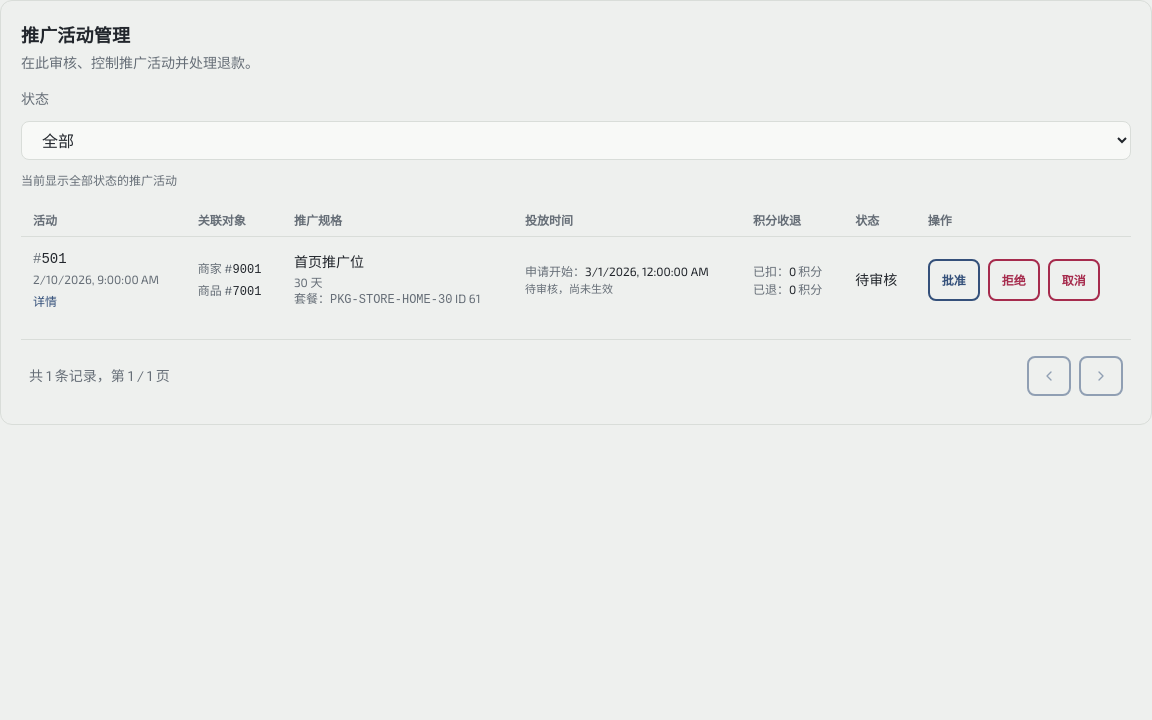
Test: AdminPromotionCampaignManager (action visibility + approve/reject) › approve resolving to payment_failed is a success: exact insufficient-balance copy, closes, refreshes, no alert
Check: the table named "推广活动列表" is shown, box [21,204,1131,323]
Click the button with aria-label "批准推广活动（活动 ID 501）" at (954, 280), box [928,259,980,301]
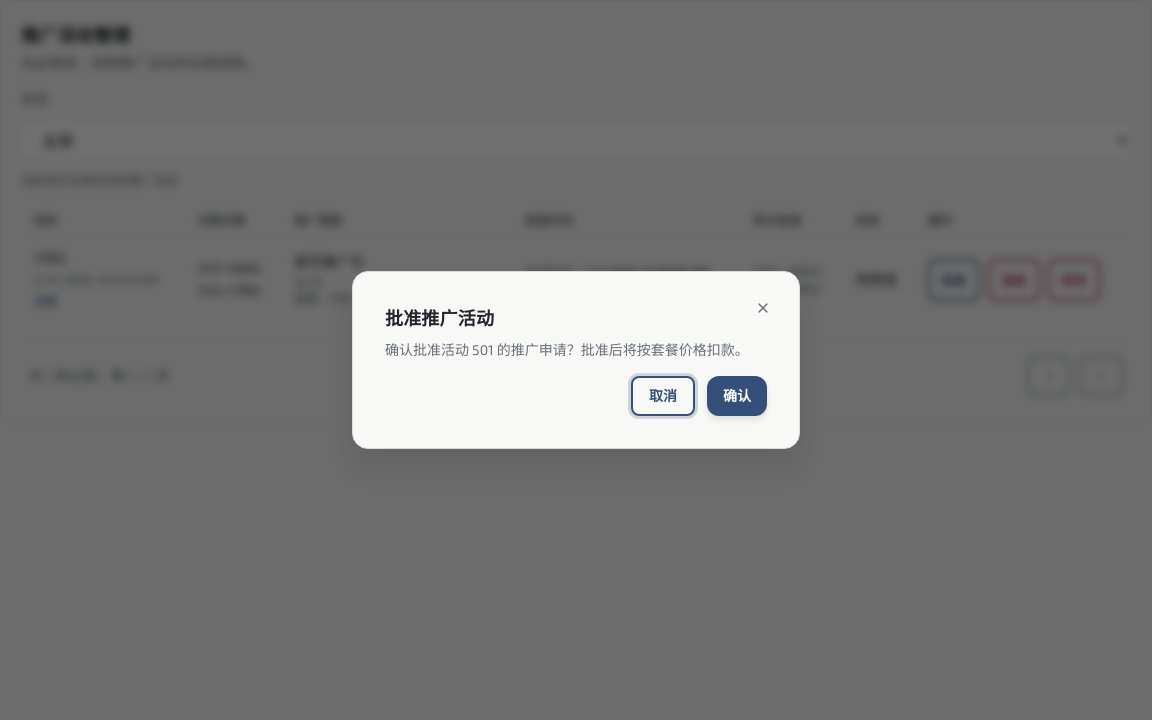
Click the button "确认" at (737, 396), box [707,376,767,416]
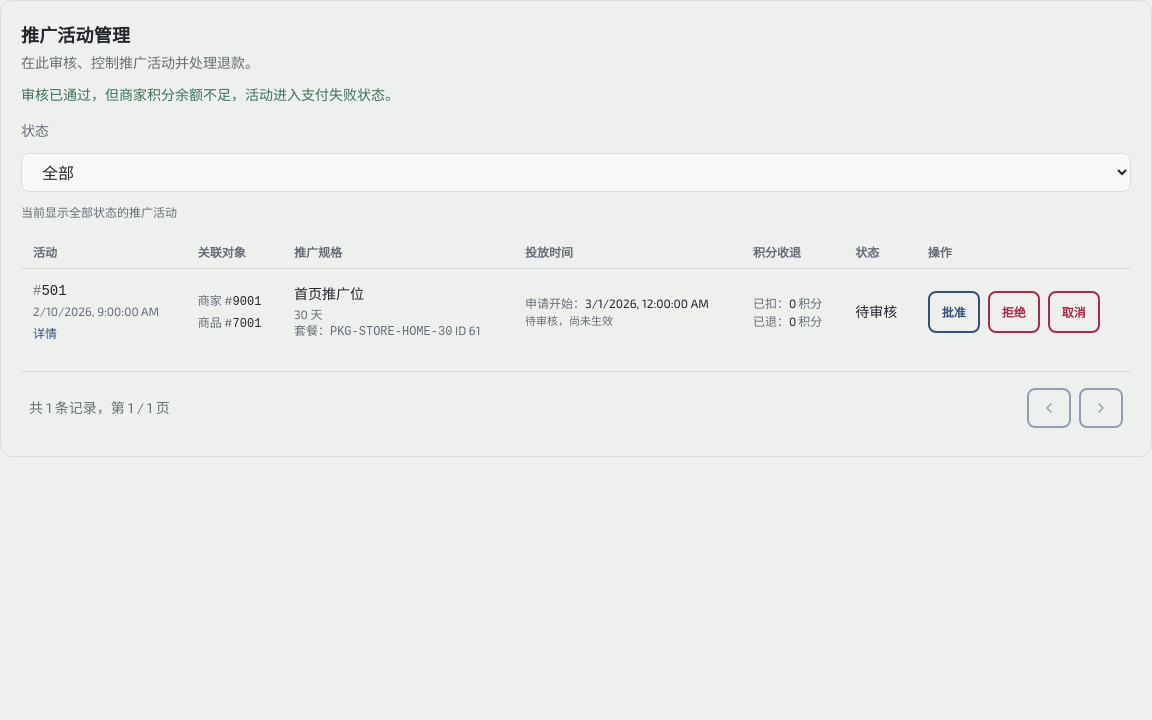
Check: the table named "推广活动列表" is shown, box [21,236,1131,355]
Check: the dialog is gone
